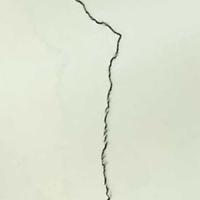crack: (76, 3, 132, 199)
